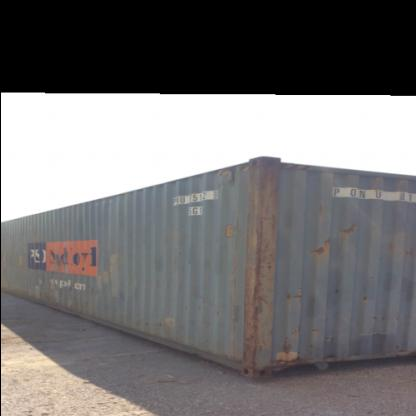Damage: (237, 164, 279, 367), (308, 234, 332, 262), (277, 334, 301, 362), (132, 314, 178, 328), (338, 214, 362, 236), (326, 278, 344, 302), (316, 344, 344, 359), (284, 280, 304, 300), (214, 162, 235, 180), (57, 278, 83, 292), (50, 245, 66, 262), (361, 290, 372, 300)
